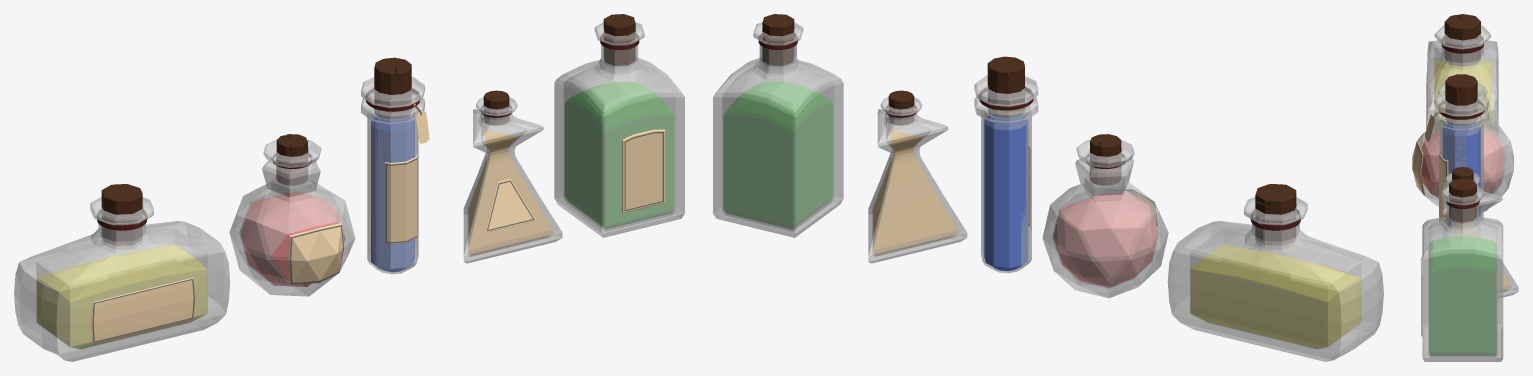
File: бутылки.fbx
3 renders of one model, left to right at view 1: azimuth 30°, elevation 25°; view 2: azimuth 150°, elevation 25°; view 3: azimuth 270°, elevation 25°, orthographic. The views are drawn at different scales.
Visible parts, largest first — view 1: бутылка.001, бутылка.003, бутылка, жижа.002, бутылка.002, колба, жидкость.001, жижа, жижа.001, жидкость, пробка.002, пробка.001 (+3 smaller); view 2: бутылка.001, бутылка.003, жижа.002, бутылка, жидкость.001, бутылка.002, колба, жижа, жидкость, жижа.001, пробка.002, пробка.001 (+3 smaller); view 3: бутылка.003, жижа.002, бутылка.001, бутылка, колба, жижа, жидкость, пробка.002, пробка.001, бутылка.002, жидкость.001, пробка.004 (+5 smaller).
Boxes of the visible parts, bbox=[...] form: бутылка.001: bbox=[14, 197, 230, 361]; бутылка.003: bbox=[554, 22, 684, 237]; бутылка: bbox=[229, 140, 355, 296]; жижа.002: bbox=[565, 82, 673, 228]; бутылка.002: bbox=[463, 97, 562, 263]; колба: bbox=[361, 76, 424, 274]; жидкость.001: bbox=[37, 245, 206, 348]; жижа: bbox=[240, 192, 345, 286]; жижа.001: bbox=[469, 130, 551, 254]; жидкость: bbox=[371, 116, 414, 271]; пробка.002: bbox=[101, 184, 142, 245]; пробка.001: bbox=[374, 57, 411, 119]; бутылка.001: bbox=[1167, 197, 1383, 361]; бутылка.003: bbox=[713, 22, 843, 237]; жижа.002: bbox=[724, 82, 832, 228]; бутылка: bbox=[1042, 140, 1168, 298]; жидкость.001: bbox=[1191, 245, 1360, 348]; бутылка.002: bbox=[868, 97, 967, 263]; колба: bbox=[974, 75, 1038, 273]; жижа: bbox=[1054, 193, 1158, 286]; жидкость: bbox=[984, 115, 1027, 271]; жижа.001: bbox=[873, 130, 956, 254]; пробка.002: bbox=[1255, 184, 1296, 245]; пробка.001: bbox=[987, 56, 1024, 117]; бутылка.003: bbox=[1421, 185, 1503, 361]; жижа.002: bbox=[1429, 236, 1496, 355]; бутылка.001: bbox=[1426, 24, 1498, 135]; бутылка: bbox=[1412, 83, 1513, 211]; колба: bbox=[1434, 91, 1489, 221]; жижа: bbox=[1421, 131, 1503, 197]; жидкость: bbox=[1443, 124, 1480, 216]; пробка.002: bbox=[1444, 14, 1480, 66]; пробка.001: bbox=[1445, 74, 1477, 125]; бутылка.002: bbox=[1443, 173, 1518, 297]; жидкость.001: bbox=[1435, 61, 1490, 123]; пробка.004: bbox=[1449, 178, 1476, 222].
Bounding box in the file's own units: 1281 × 397 × 221.
